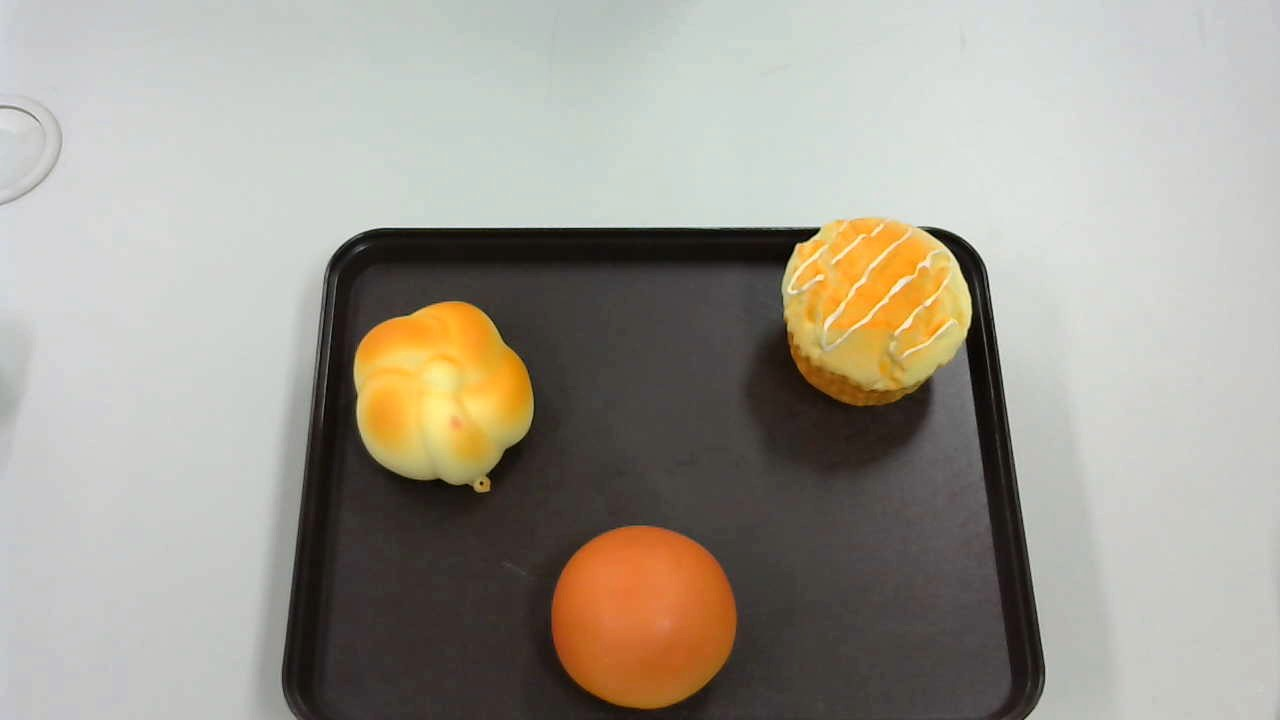bun: (550, 524, 735, 707)
cupcake: (781, 218, 974, 407)
twist bread: (352, 302, 535, 489)
